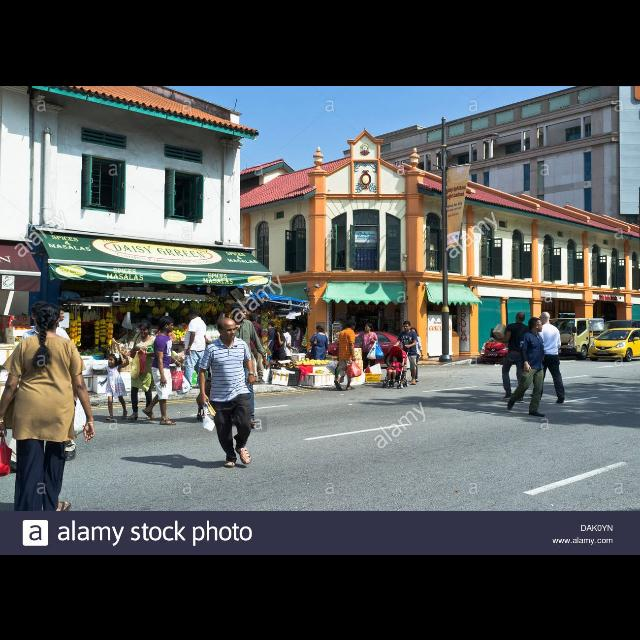head: (35, 302, 61, 332), (31, 302, 50, 326), (218, 316, 236, 340), (232, 303, 248, 319), (528, 316, 544, 332), (160, 316, 174, 332), (139, 321, 151, 337), (108, 354, 120, 366), (187, 308, 199, 320), (540, 311, 550, 323), (274, 327, 284, 337), (516, 312, 526, 322), (348, 320, 357, 330), (250, 312, 258, 322), (404, 321, 412, 331), (409, 327, 417, 337), (365, 322, 373, 331), (316, 325, 324, 333), (392, 354, 400, 362), (269, 320, 275, 328), (287, 326, 293, 332), (297, 324, 301, 328)
person: (0, 299, 98, 535), (16, 298, 78, 476), (196, 314, 260, 472), (218, 301, 270, 431), (140, 314, 186, 424), (490, 311, 536, 404), (507, 316, 548, 418), (527, 310, 567, 404), (122, 318, 158, 422), (324, 317, 364, 391), (182, 306, 210, 392), (98, 348, 130, 422), (354, 321, 386, 382), (242, 311, 266, 384), (392, 320, 418, 386), (402, 326, 424, 384), (308, 324, 329, 376), (278, 324, 298, 368), (271, 326, 287, 374), (262, 319, 278, 365), (386, 353, 406, 383), (293, 323, 303, 357)
